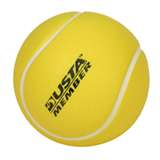tennis ball: (10, 6, 152, 152)
